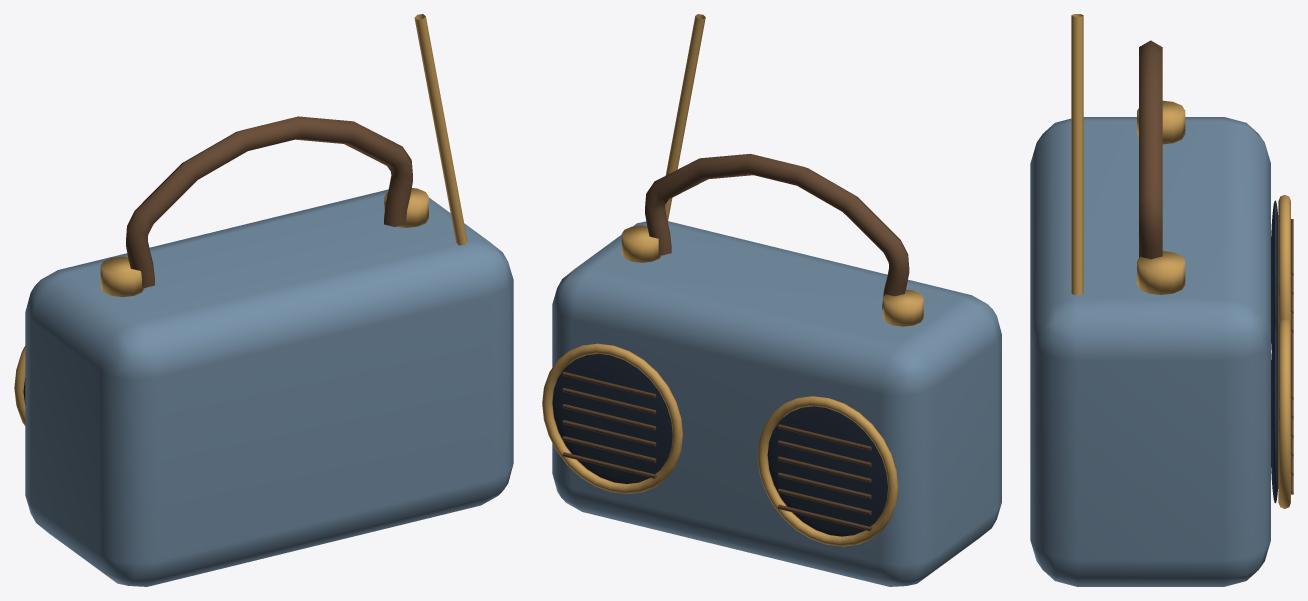
The model's file is radio.glb.
3 renders of one model, left to right at view 1: azimuth 30°, elevation 25°; view 2: azimuth 150°, elevation 25°; view 3: azimuth 270°, elevation 25°, orthographic. The views are drawn at different scales.
Parts seen in each view (by area): view 1: House07_radio; view 2: House07_radio; view 3: House07_radio.
Boxes of the visible parts, bbox=[...] form: House07_radio: bbox=[14, 14, 513, 586]; House07_radio: bbox=[542, 14, 1001, 586]; House07_radio: bbox=[1030, 14, 1293, 586].
Bounding box in the file's own units: 0.49 × 0.5709 × 0.2515.
